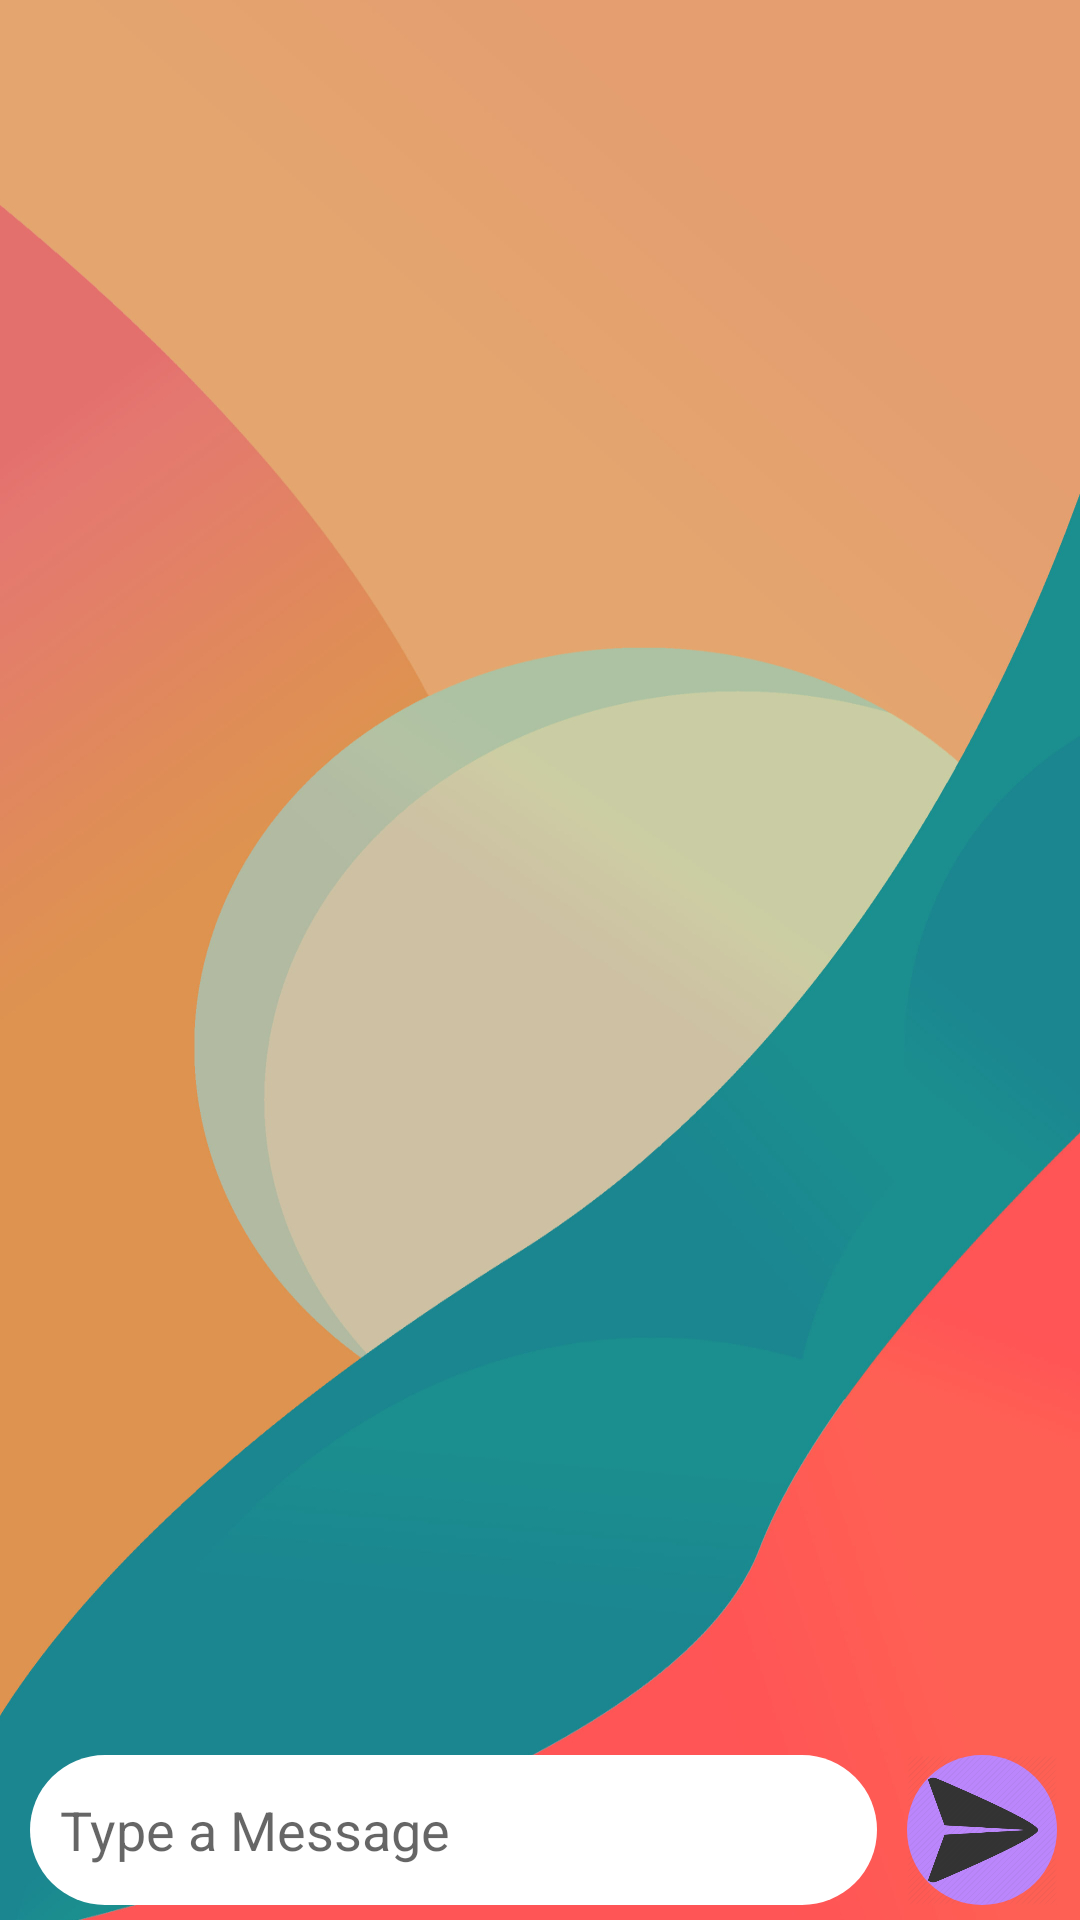

Point at icon controls on the screen. Image size 1080 x 1920, points as (x=x, y=y).
send: (x=982, y=1830)
